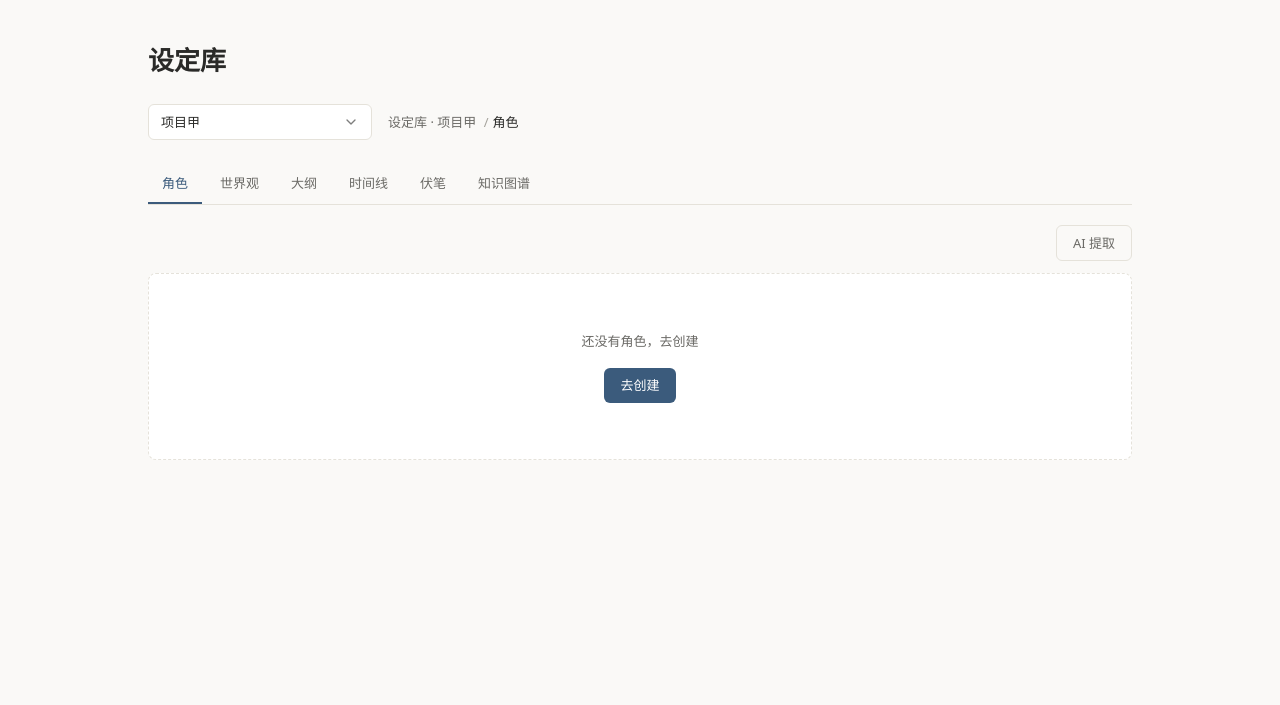
Test: #1373-B 类别/实体筛选（决策②③④：左侧面板 + 折叠 + 记忆） › N15 搜索只过滤实体列表，不改画布
Click the tab "知识图谱" at (504, 184), box [464,164,544,204]
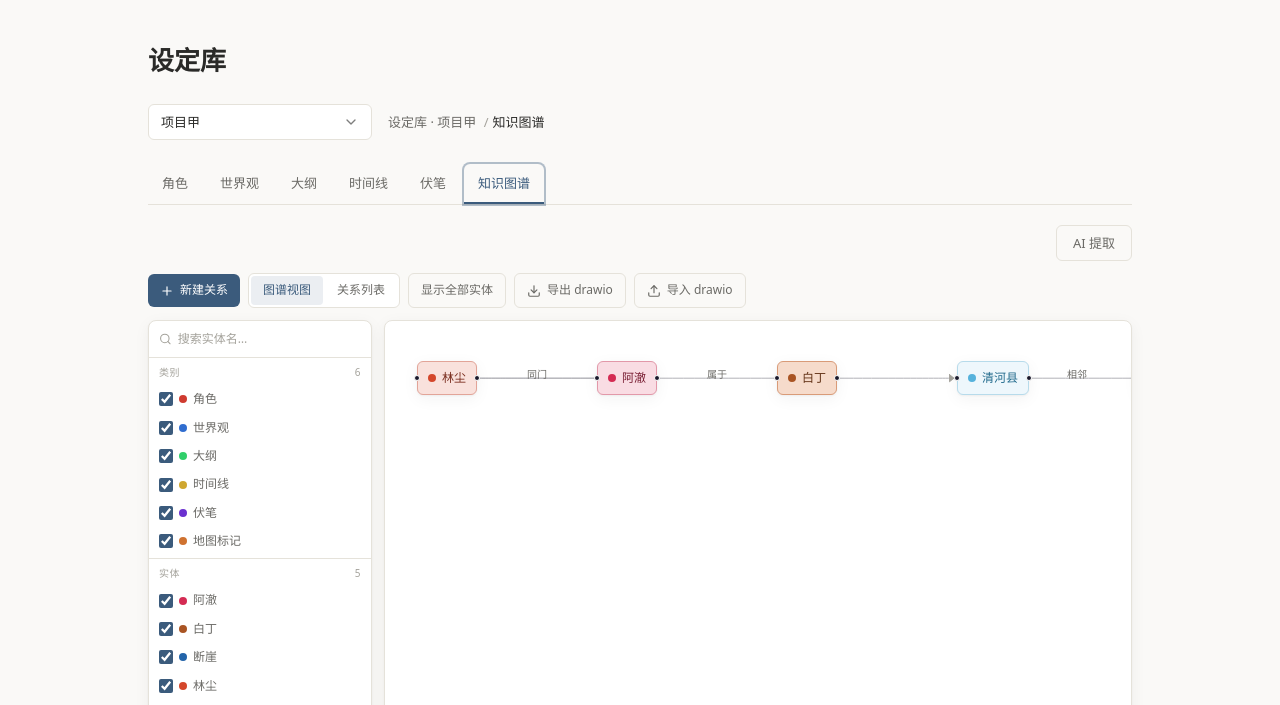
Expected: the element with test id "library-kg-node-character-c1" is shown, [417,361,477,395]
Type "断崖" into the field with test id "library-kg-filter-panel-search" at (269, 339), box [178,329,361,349]
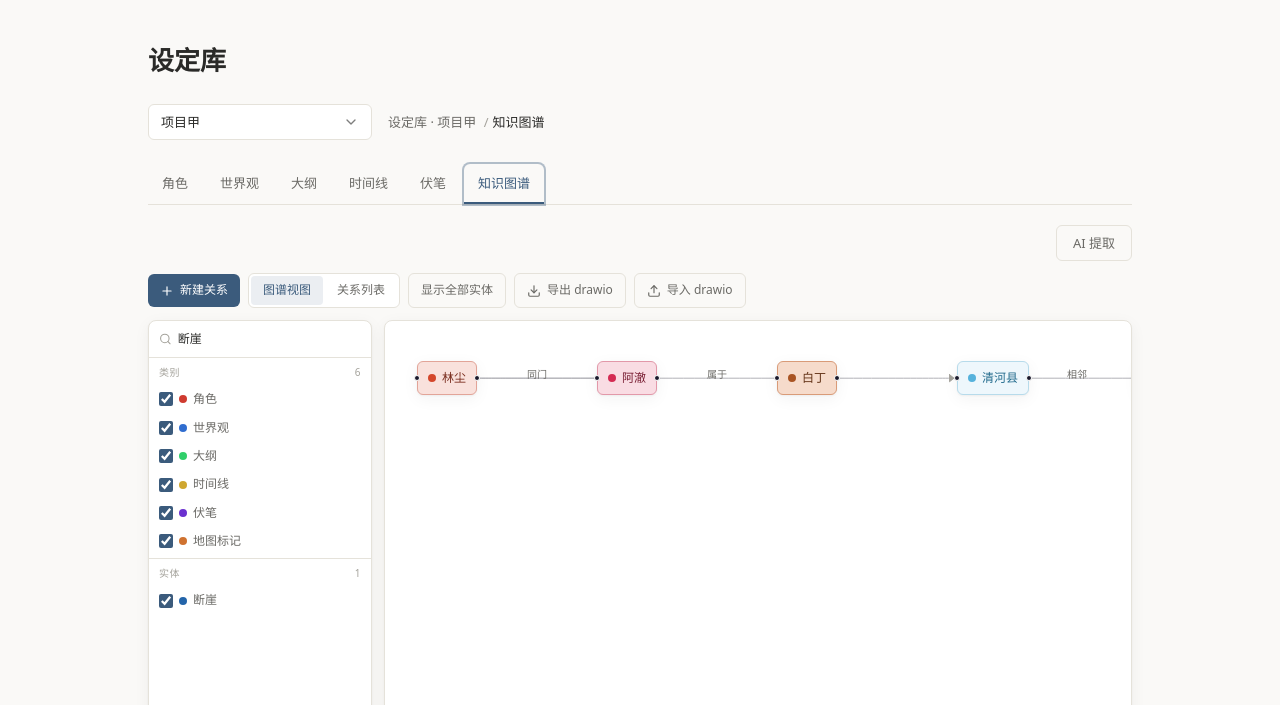
Expected: the text "断崖" is shown, [159,591,217,608]
Expected: the label with test id "library-kg-filter-panel-entity-character-c1" is gone
